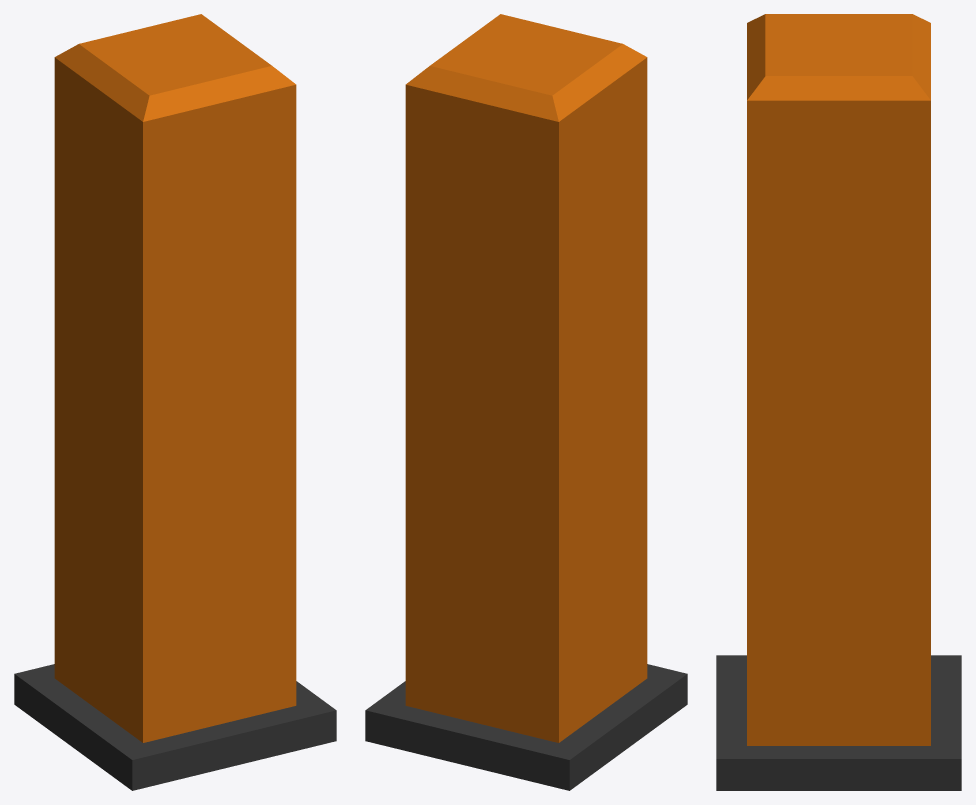
Rendered from Parking_01.glb.
3 renders of one model, left to right at view 1: azimuth 30°, elevation 25°; view 2: azimuth 150°, elevation 25°; view 3: azimuth 270°, elevation 25°, orthographic. The views are drawn at different scales.
Visible parts, largest first — view 1: Parking_01; view 2: Parking_01; view 3: Parking_01.
Boxes of the visible parts, <box> form: Parking_01: <box>14,14,336,790</box>; Parking_01: <box>365,14,687,790</box>; Parking_01: <box>716,14,961,790</box>.
Bounding box in the file's own units: 0.388 × 1.21 × 0.388.
1 material, 1 textured.
